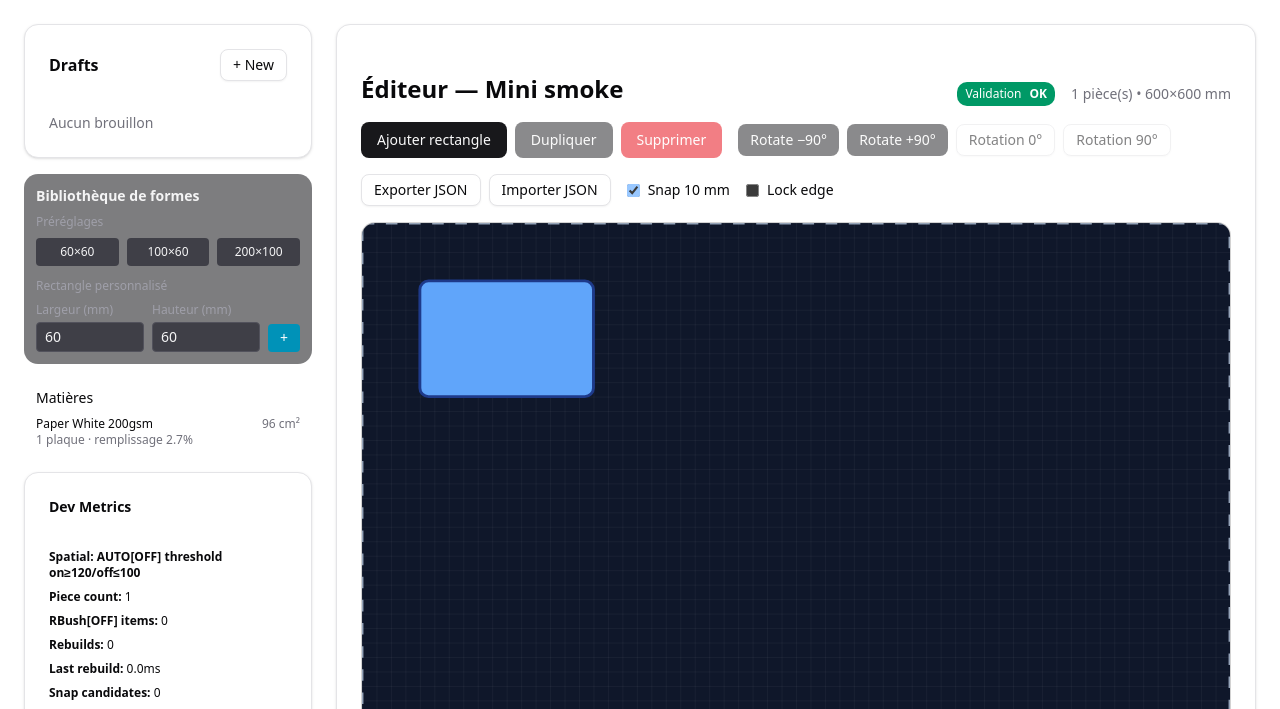
Test: Draft Management › Create Draft › new draft button creates draft with auto-name
Click the button with aria-label "new-draft" at (254, 65), box [220,49,287,81]
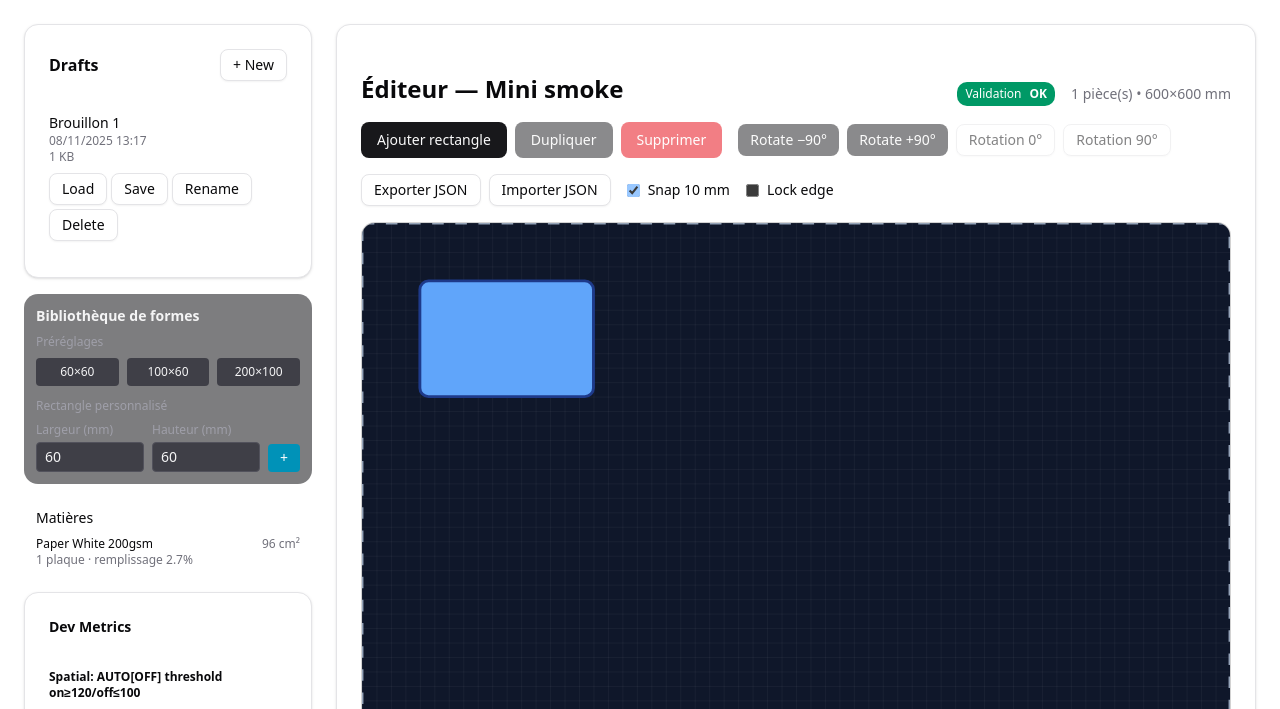
Check: the text "Brouillon 1" is shown, box [49,113,120,132]
